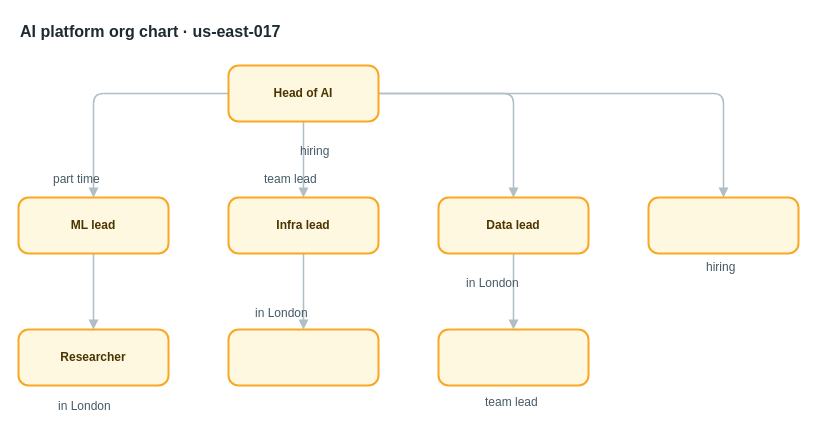
The diagram is 816 pixels wide and 431 high, and some of its shapes have lost their labels. The centre of each missing label's shape, as x and y in pixels:
"Data engineer" belongs at (x=513, y=357).
"Product" belongs at (x=723, y=225).
"SRE" belongs at (x=303, y=357).
